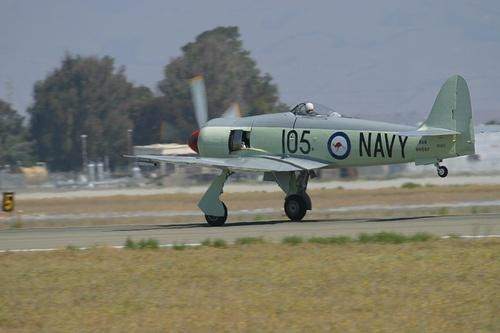aeroplane: (126, 71, 480, 227)
